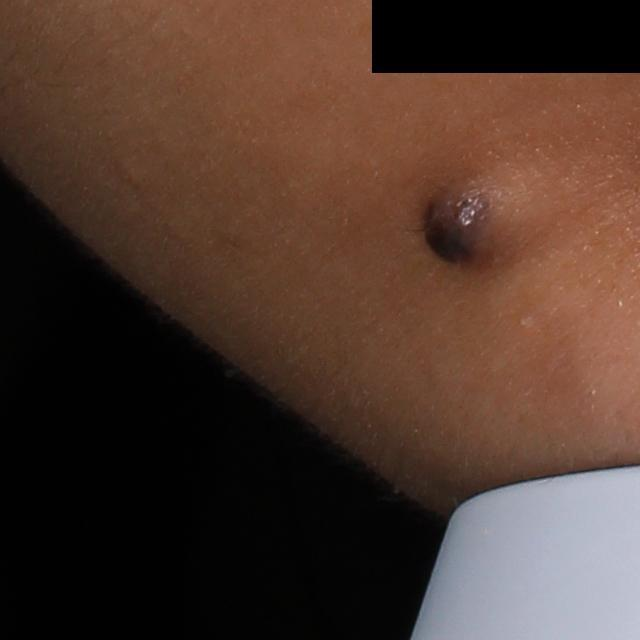nevus: (416, 166, 540, 273)
